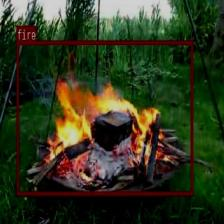fire: (16, 40, 193, 194)
